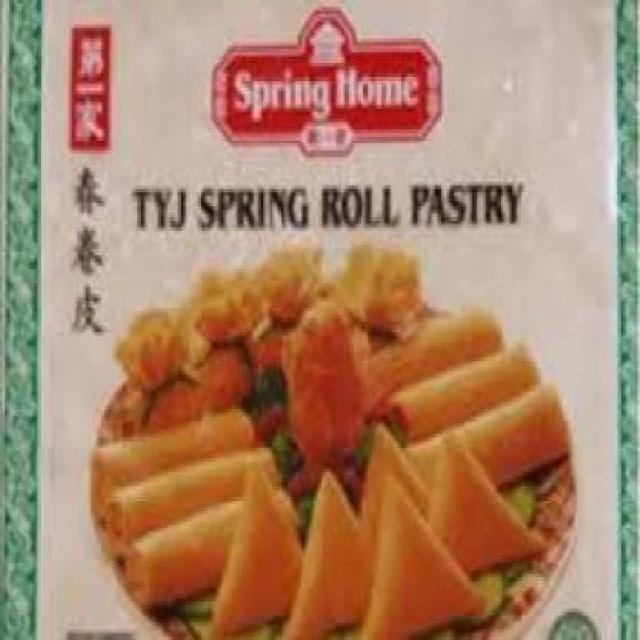samosa: (228, 437, 535, 637)
spring rolls: (86, 402, 286, 592), (363, 297, 566, 475)
